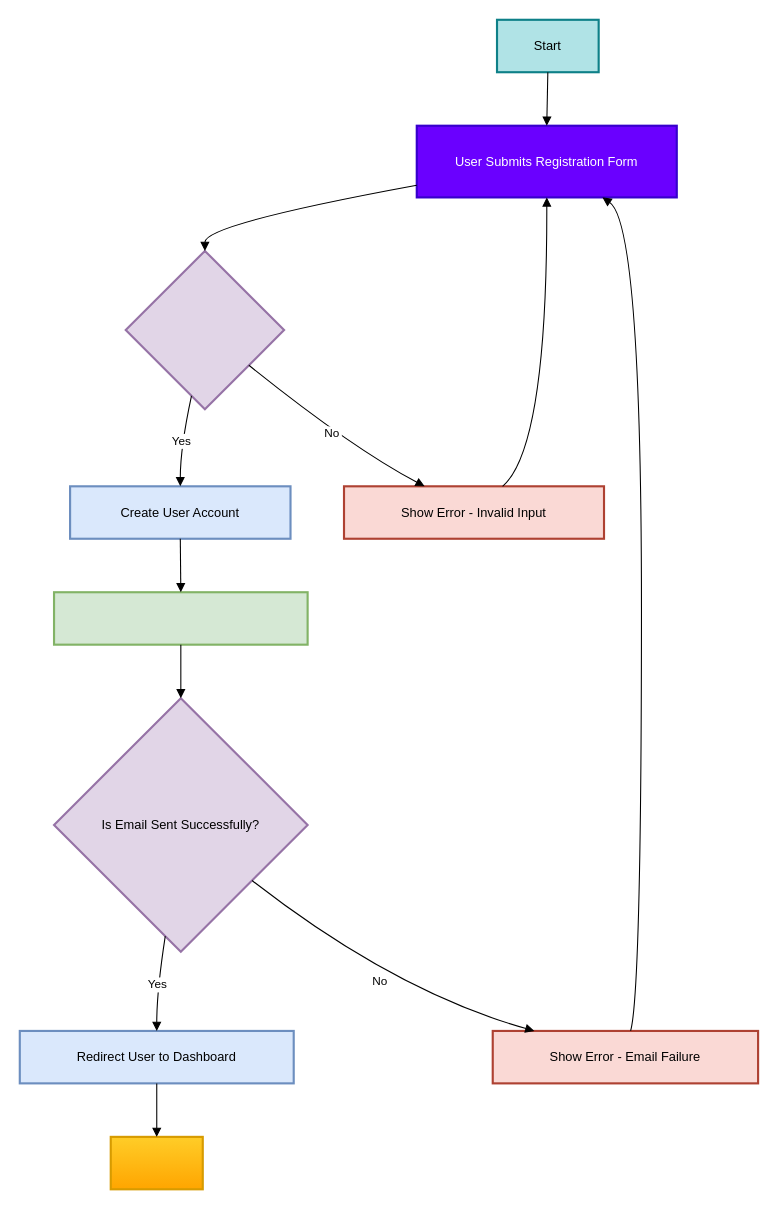
The diagram is 777 pixels wide and 1208 high, and some of its shapes have lost their labels. Each missing label, with the box of its shape:
End: (109, 1135, 203, 1190)
Is Input Valid?: (124, 249, 285, 410)
Send Confirmation Email: (52, 591, 308, 645)
